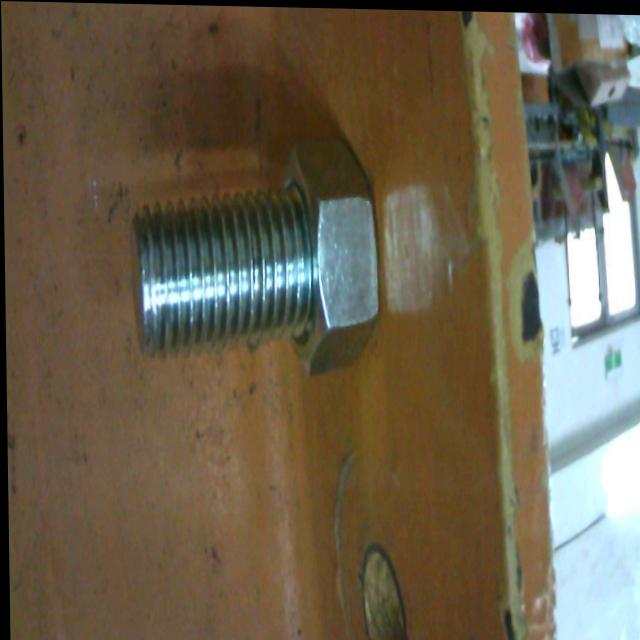Missing bolt: (356, 545, 405, 640)
Regular bolt: (126, 141, 384, 380)
